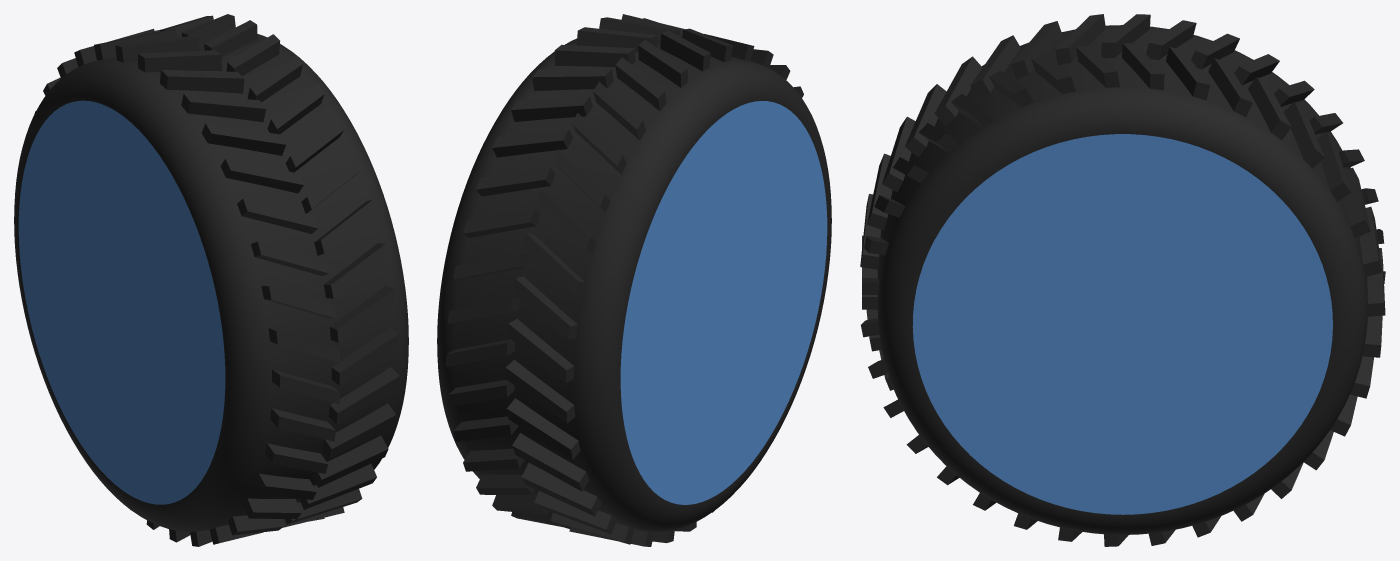
The model's file is TerrainWheel3.obj.
The picture shows the model from 3 angles, left to right: view 1: azimuth 30°, elevation 25°; view 2: azimuth 150°, elevation 25°; view 3: azimuth 270°, elevation 25°; orthographic projection.
Parts seen in each view (by area): view 1: Body2; view 2: Body2; view 3: Body2.
Boxes of the visible parts, <box> form: Body2: <box>14,14,408,546</box>; Body2: <box>437,14,831,546</box>; Body2: <box>860,14,1385,546</box>.
Size of the model in its own units: 30 by 75.12 by 75.1.
